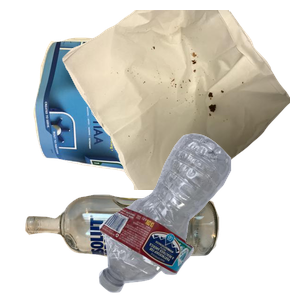glass: (22, 192, 234, 300)
paper: (31, 34, 252, 205)
plastic: (96, 131, 300, 300)
trash: (60, 10, 300, 190)
